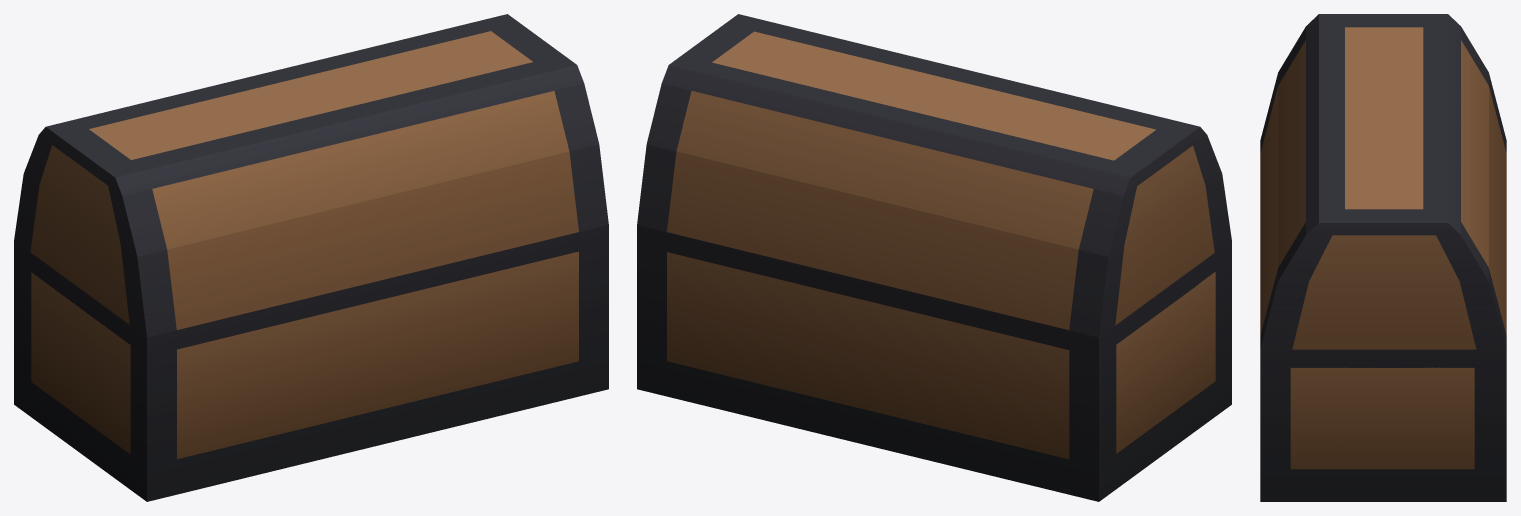
Rendered from Chest_01.fbx.
3 renders of one model, left to right at view 1: azimuth 30°, elevation 25°; view 2: azimuth 150°, elevation 25°; view 3: azimuth 270°, elevation 25°, orthographic. The views are drawn at different scales.
Parts seen in each view (by area): view 1: Chest_top.001, Chest_bot; view 2: Chest_top.001, Chest_bot; view 3: Chest_top.001, Chest_bot.
Part boxes in pixels (<box>): Chest_top.001: <box>14,14,608,356</box>; Chest_bot: <box>14,244,608,501</box>; Chest_top.001: <box>637,14,1231,357</box>; Chest_bot: <box>637,245,1231,501</box>; Chest_top.001: <box>1260,14,1506,367</box>; Chest_bot: <box>1260,367,1506,501</box>.
Bounding box in the file's own units: 161 × 100 × 80.34.
Materials: 1 (1 with a texture image).
